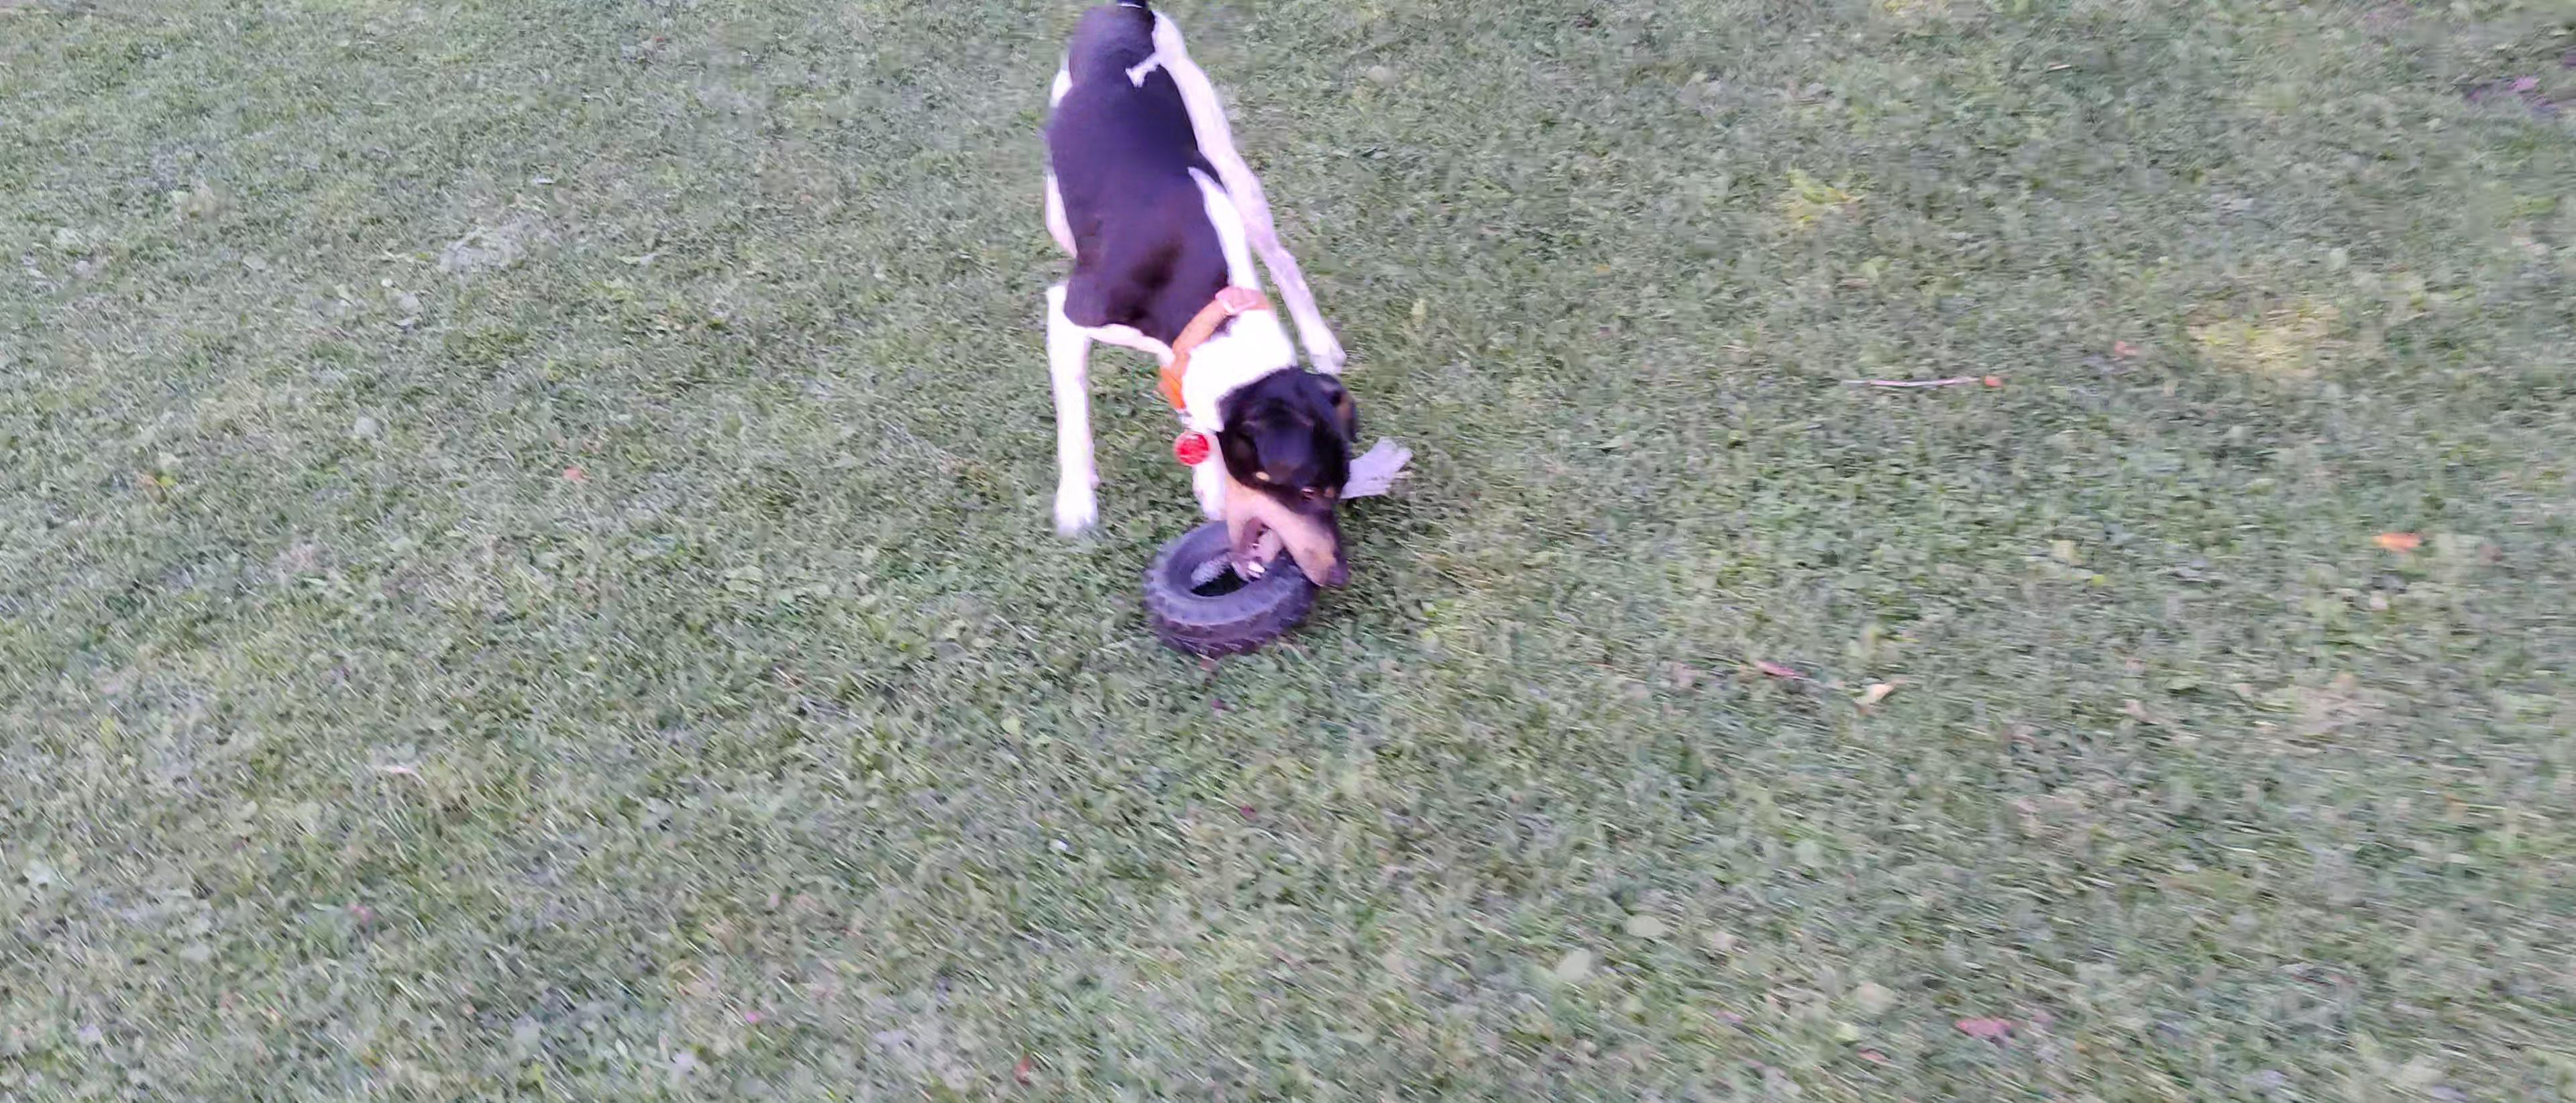Dog: (1015, 0, 1385, 605)
